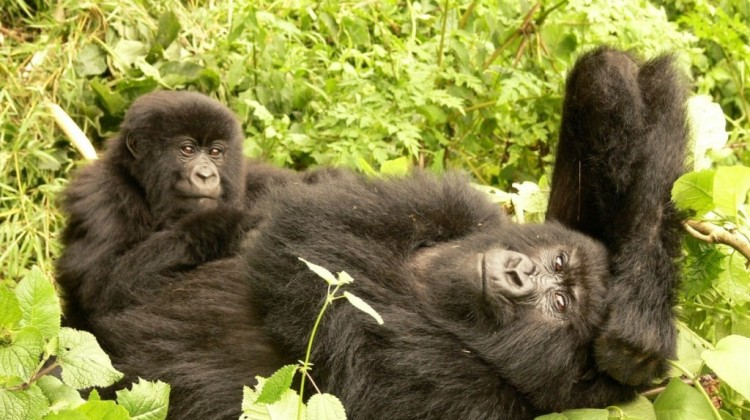Goriila: (282, 143, 689, 414)
